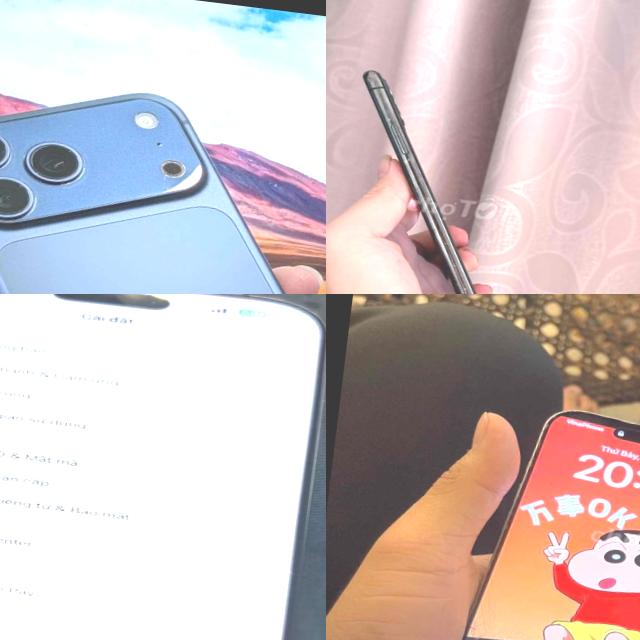gen_11: (326, 58, 527, 294)
gen_15: (390, 370, 640, 640)
gen_16: (0, 294, 323, 640)
gen_17: (0, 60, 326, 294)
